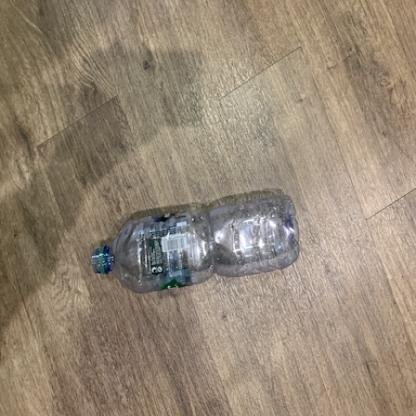trash: (89, 190, 305, 296)
